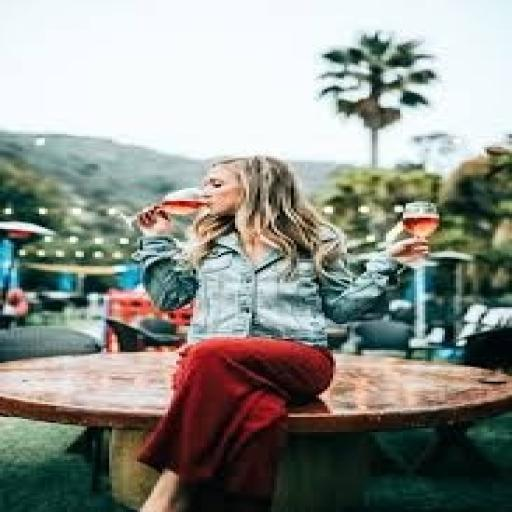drinking: (68, 127, 374, 247)
